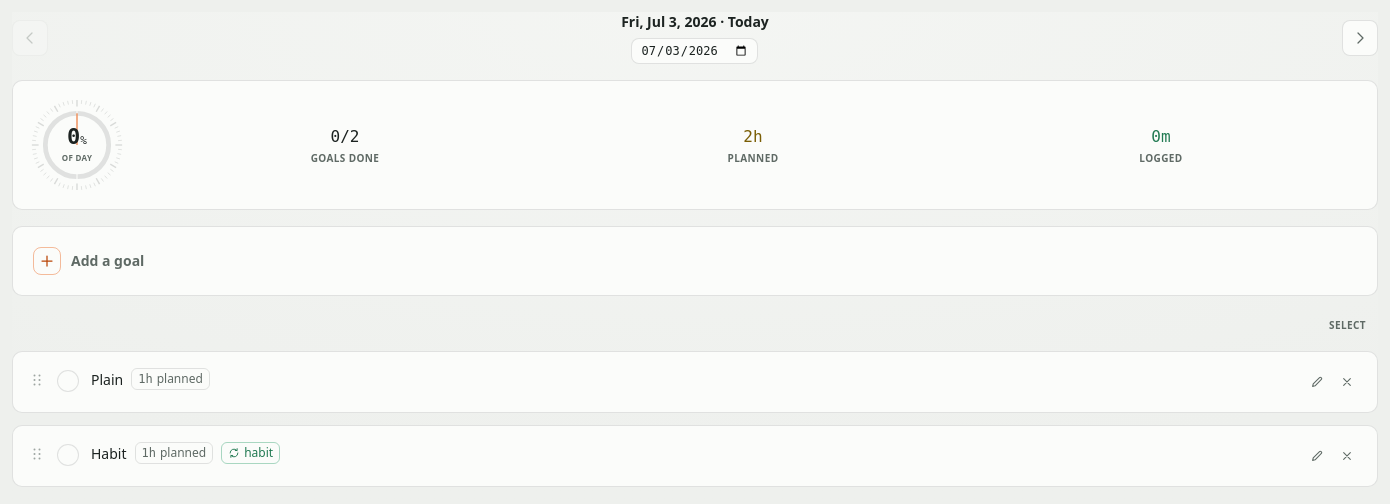
Test: TodayPage bulk-select › cannot select habit or plan goals for the backlog
This screenshot has width=1390, height=504.
Click the button "Select": (1348,326) 1317,312 -> 1378,339
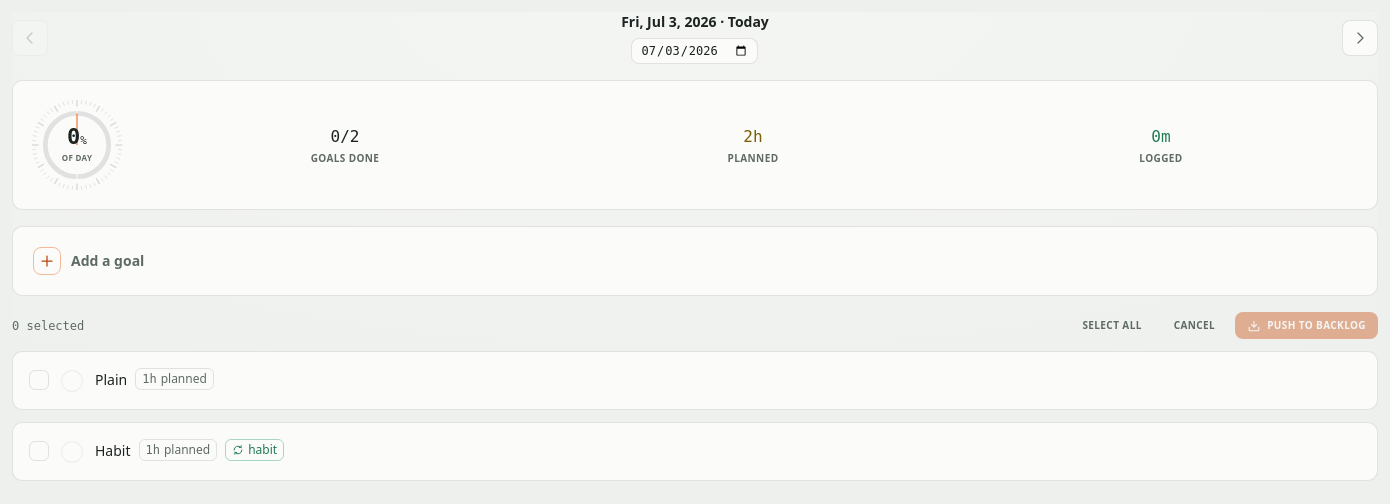
Now the checkbox named "Select goal Plain" is enabled, box 29,370 -> 49,390
Now the checkbox named "Select goal Habit" is disabled, box 29,441 -> 49,461
